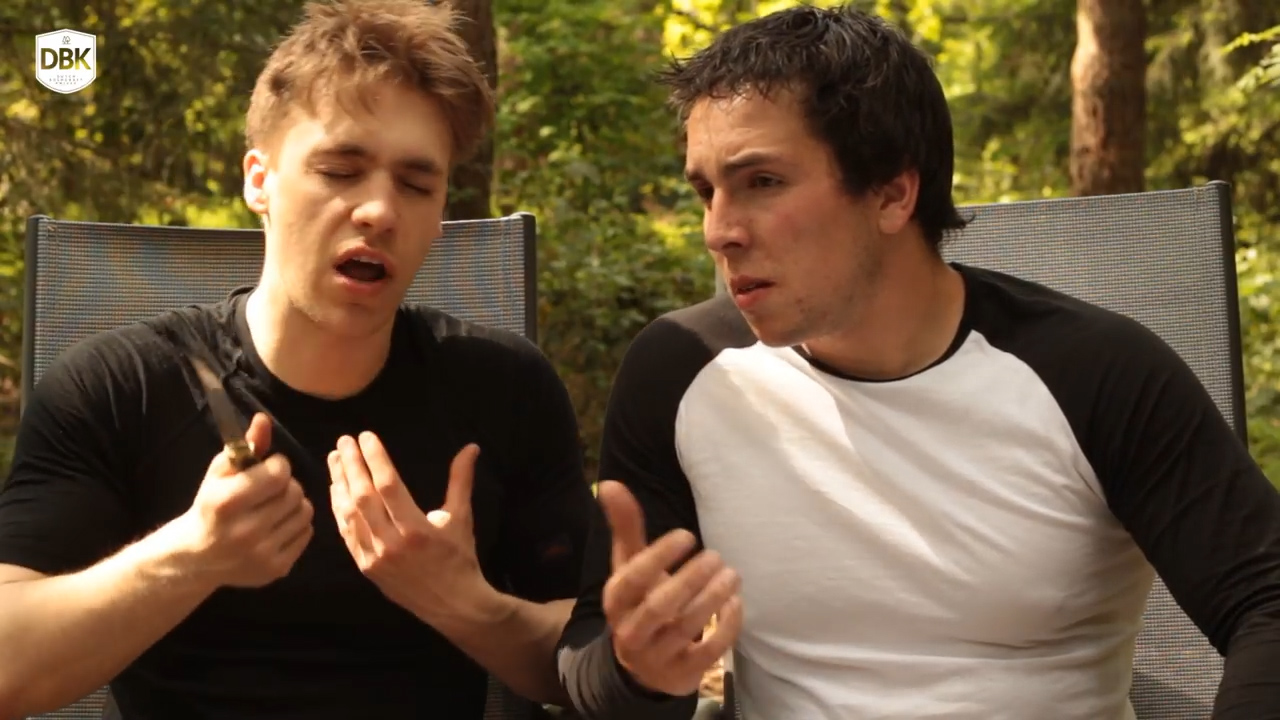knife: (152, 319, 319, 551)
